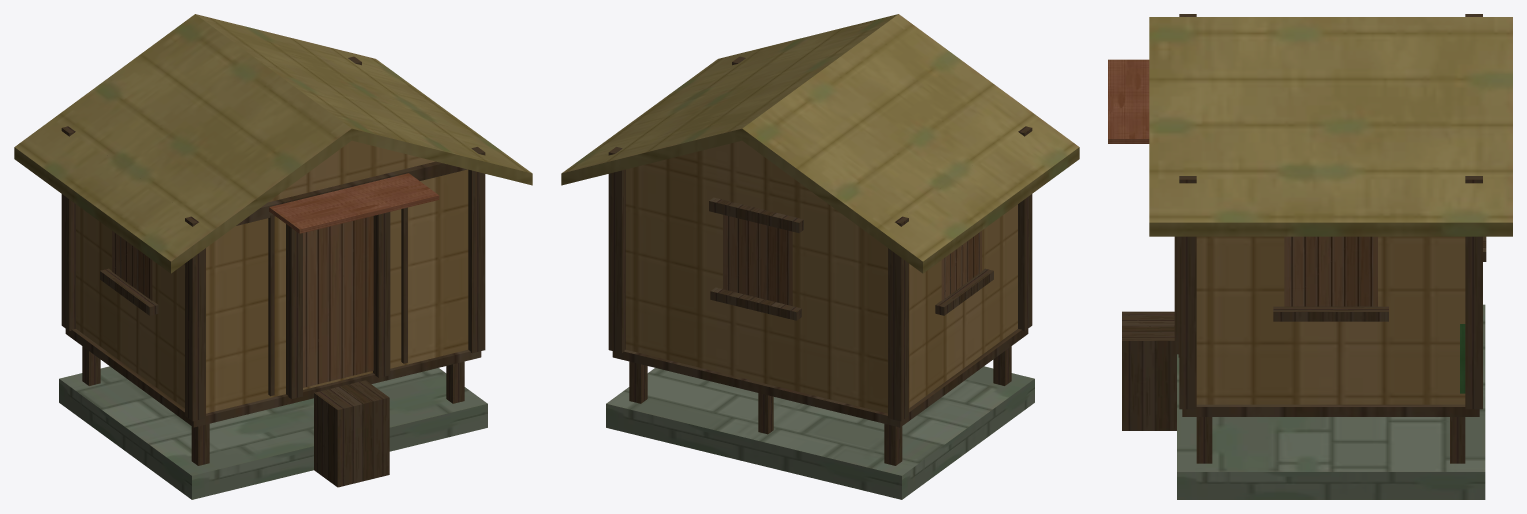
File: ae_jungle_wood_small_booth_lod0.glb
3 views of the same model, side by side, from view 1: azimuth 30°, elevation 25°; view 2: azimuth 150°, elevation 25°; view 3: azimuth 270°, elevation 25° (orthographic). The views are drawn at different scales.
Parts seen in each view (by area): view 1: ae_jungle_wood_small_booth_lod0; view 2: ae_jungle_wood_small_booth_lod0; view 3: ae_jungle_wood_small_booth_lod0.
Boxes of the visible parts, x1,y1,x2,y2 form: ae_jungle_wood_small_booth_lod0: (14, 14, 532, 499); ae_jungle_wood_small_booth_lod0: (561, 14, 1079, 499); ae_jungle_wood_small_booth_lod0: (1108, 14, 1512, 499).
Bounding box in the file's own units: 4.4 × 4 × 3.67.
1 material, 1 textured.
